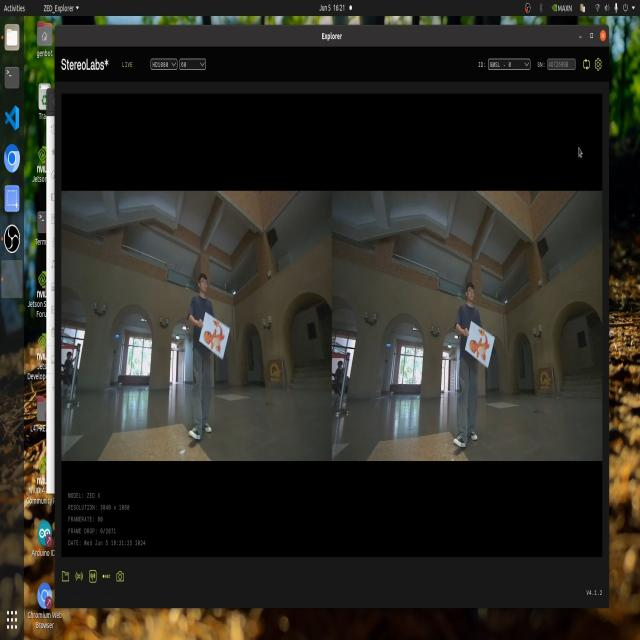red: (467, 328, 492, 365), (199, 318, 225, 352)
